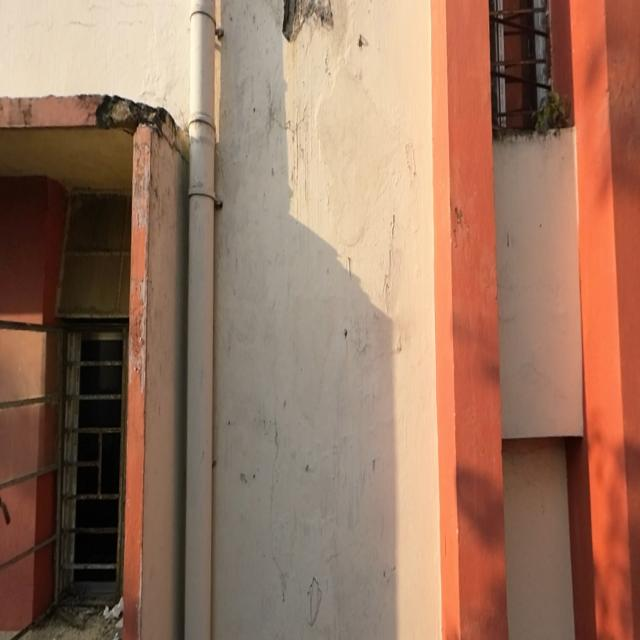spalling: (96, 95, 189, 159)
